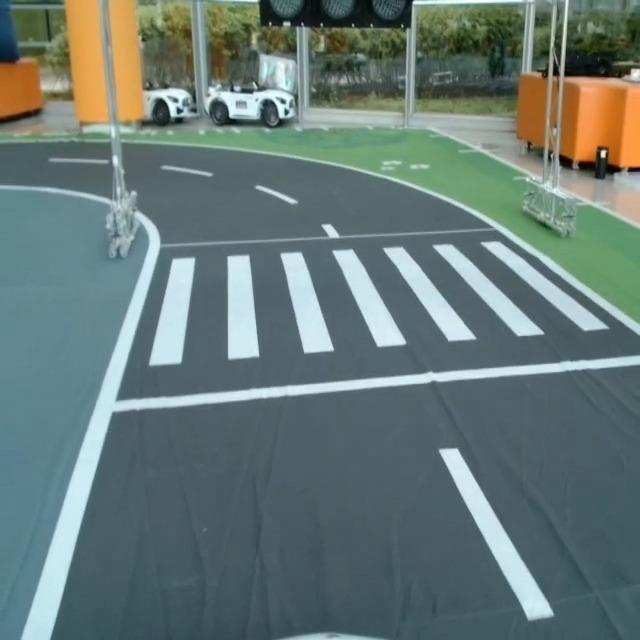traffic-light: (255, 0, 423, 34)
